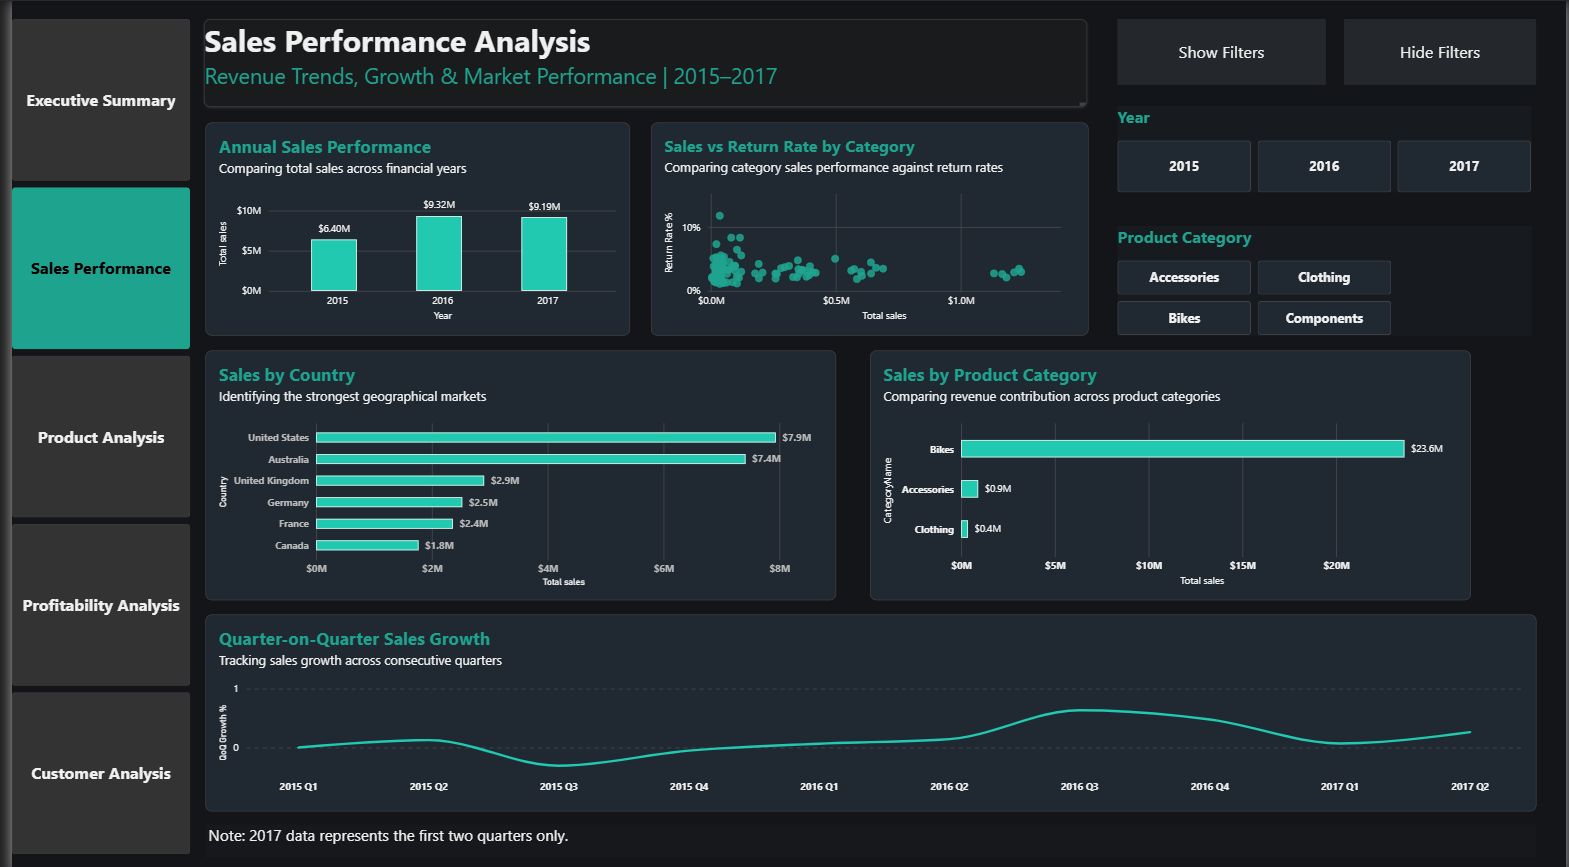

The page's visual inventory and layout, read from the dashboard file:
{"tool":"powerbi","page":{"name":"Sales Performance","canvas":[1920,1080],"ordinal":1},"visuals":[{"type":"pageNavigator","box":[0,22.7,220.3,1035.7],"z":0},{"type":"advancedSlicerVisual","title":"Product Category","fields":{"Values":["Product Categories.CategoryName"]},"box":[1366.1,277.7,512.2,136.1],"z":0,"group":"g1"},{"type":"textbox","title":"Sales Performance Analysis","box":[237.5,22.3,1091.1,108.9],"z":1000},{"type":"advancedSlicerVisual","fields":{"Values":["Calender.Year"]},"box":[1367,129.8,511,106.8],"z":1000,"group":"g1"},{"type":"clusteredColumnChart","title":"Annual Sales Performance","fields":{"Category":["Calender.Year"],"Y":["Sales.Total sales"]},"box":[238.5,149.9,524.7,263.5],"z":2000},{"type":"lineChart","title":"Quarter-on-Quarter Sales Growth","fields":{"Category":["Calender.Year-Quarter"],"Y":["Sales.QoQ Growth %"]},"box":[238.5,758.6,1644.4,243],"z":3000},{"type":"clusteredBarChart","title":"Sales by Country","fields":{"Category":["Territories.Country"],"Y":["Sales.Total sales"]},"box":[238.5,431.5,779.1,308.9],"z":4000},{"type":"clusteredBarChart","title":"Sales by Product Category","fields":{"Category":["Product Categories.CategoryName"],"Y":["Sales.Total sales"]},"box":[1060.7,431.5,742.7,308.9],"z":5000},{"type":"scatterChart","title":"Sales vs Return Rate by Category","fields":{"Category":["Products.ProductName"],"X":["Sales.Total sales"],"Y":["Return sales.Return Rate %"]},"box":[790.4,149.9,540.6,263.5],"z":6000},{"type":"group","id":"g1","title":"Filter Panel","box":[1366.1,129.8,511.6,283.6],"z":7000},{"type":"actionButton","box":[1365.8,22.3,257.3,81.6],"z":8000},{"type":"actionButton","box":[1645.4,22.3,237.5,81.6],"z":9000},{"type":"textbox","box":[238.5,1017.5,1644.4,40.9],"z":9001}]}

Visuals, with their boxes in screenshot pixels (x1, y1, x2, y2), scaled from the page's 1920x1080 canvas onto the 1569x867 screenshot:
pageNavigator: region(0, 18, 180, 850)
"Product Category" advancedSlicerVisual: region(1116, 223, 1535, 332)
"Sales Performance Analysis" textbox: region(194, 18, 1086, 105)
advancedSlicerVisual - Calender.Year: region(1117, 104, 1535, 190)
"Annual Sales Performance" clusteredColumnChart: region(195, 120, 624, 332)
"Quarter-on-Quarter Sales Growth" lineChart: region(195, 609, 1539, 804)
"Sales by Country" clusteredBarChart: region(195, 346, 832, 594)
"Sales by Product Category" clusteredBarChart: region(867, 346, 1474, 594)
"Sales vs Return Rate by Category" scatterChart: region(646, 120, 1088, 332)
"Filter Panel" group: region(1116, 104, 1534, 332)
actionButton: region(1116, 18, 1326, 83)
actionButton: region(1345, 18, 1539, 83)
textbox: region(195, 817, 1539, 850)
